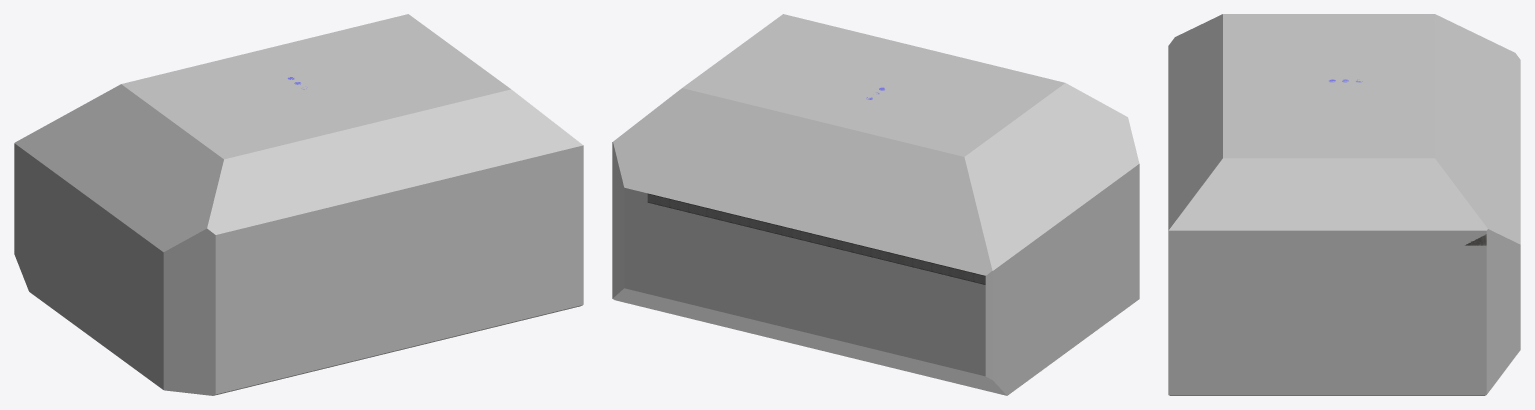
File: SM_building_01.fbx
The picture shows the model from 3 angles, left to right: view 1: azimuth 30°, elevation 25°; view 2: azimuth 150°, elevation 25°; view 3: azimuth 270°, elevation 25°; orthographic projection. The views are drawn at different scales.
Visible parts, largest first — view 1: SM_building_01_ConvexHulls; view 2: SM_building_01_ConvexHulls, SM_building_01; view 3: SM_building_01_ConvexHulls.
Boxes of the visible parts, bbox=[...] form: SM_building_01_ConvexHulls: bbox=[14, 14, 583, 395]; SM_building_01_ConvexHulls: bbox=[612, 14, 1139, 395]; SM_building_01: bbox=[647, 87, 985, 284]; SM_building_01_ConvexHulls: bbox=[1168, 14, 1520, 395].
Bounding box in the file's own units: 1873 × 1383 × 933.
7 materials, 6 textured.
